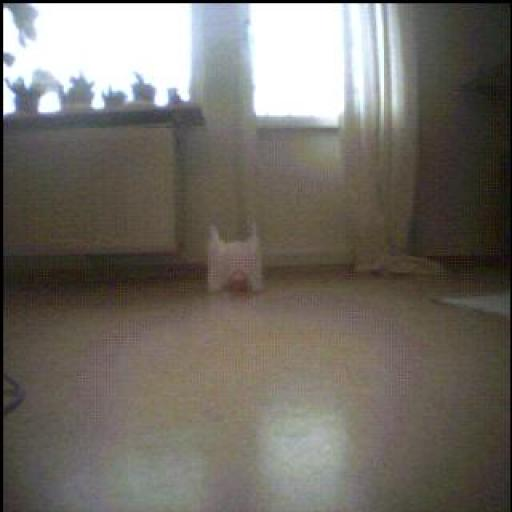Basket: (224, 268, 255, 298)
